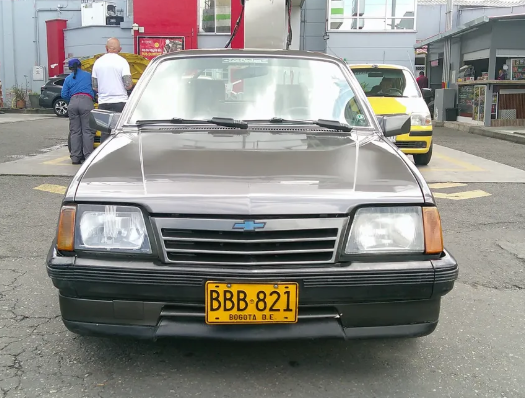placa: (204, 280, 299, 326)
